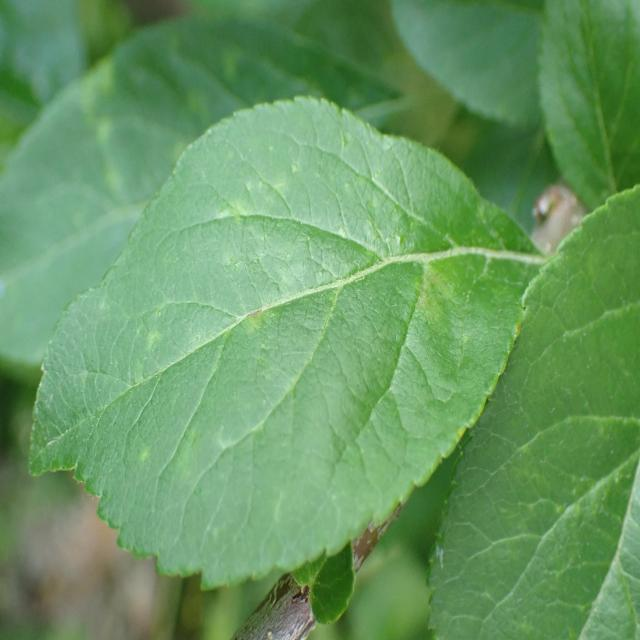scab: (46, 170, 490, 507)
